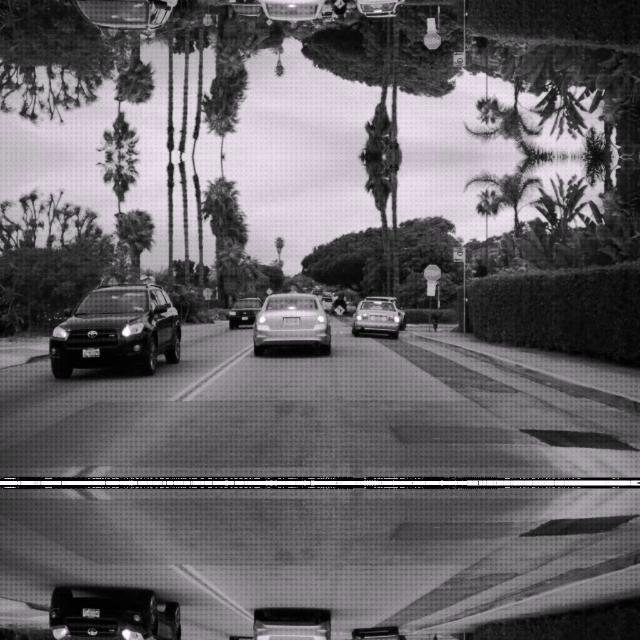stop: (424, 262, 441, 280), (424, 32, 441, 50)
